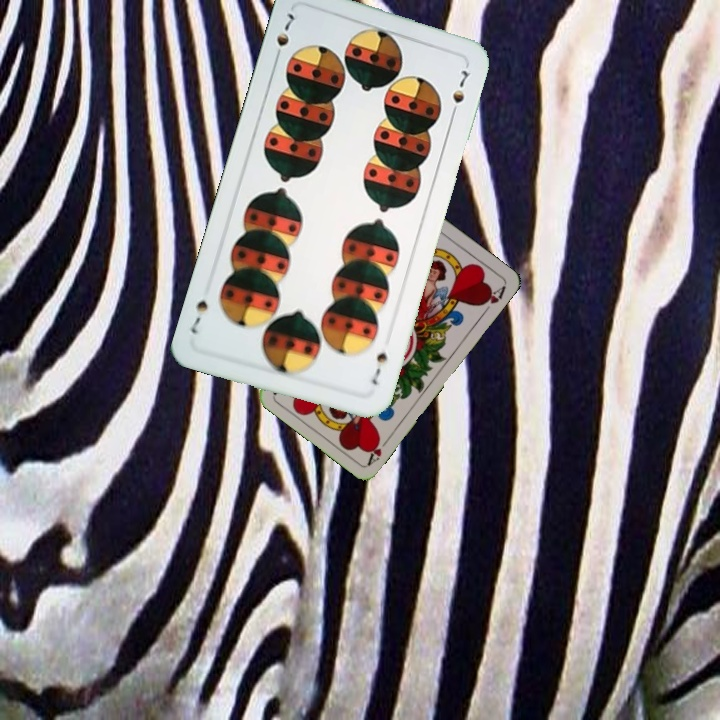HA: (364, 432, 394, 467)
S7: (270, 9, 297, 65), (367, 344, 390, 388)
